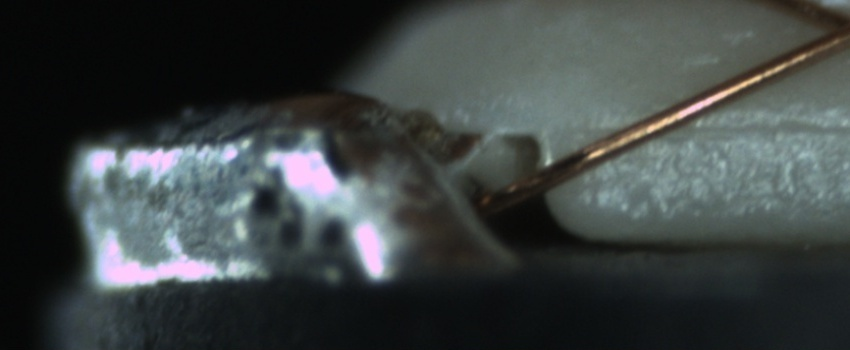CL: (799, 1, 850, 60)
DL: (612, 93, 849, 161)
